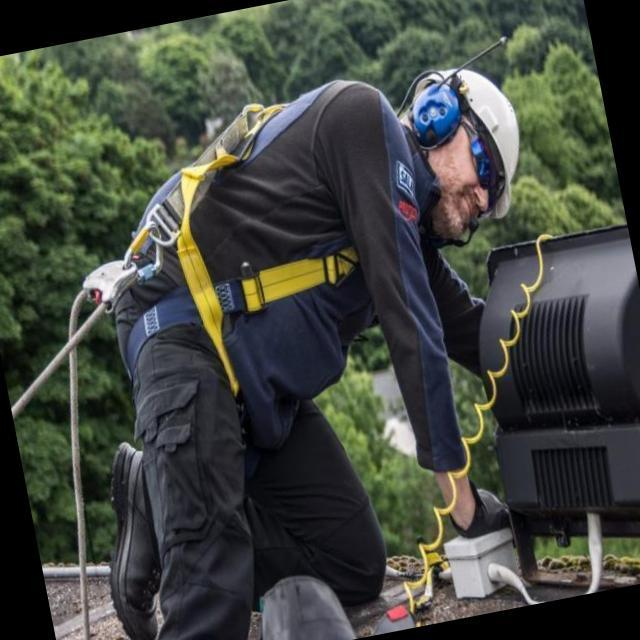Gloves: (439, 460, 527, 558)
Helmet: (399, 41, 548, 238)
Person: (63, 22, 585, 640)
Safety Boot: (69, 424, 199, 640)
no-vest: (103, 70, 475, 488)
